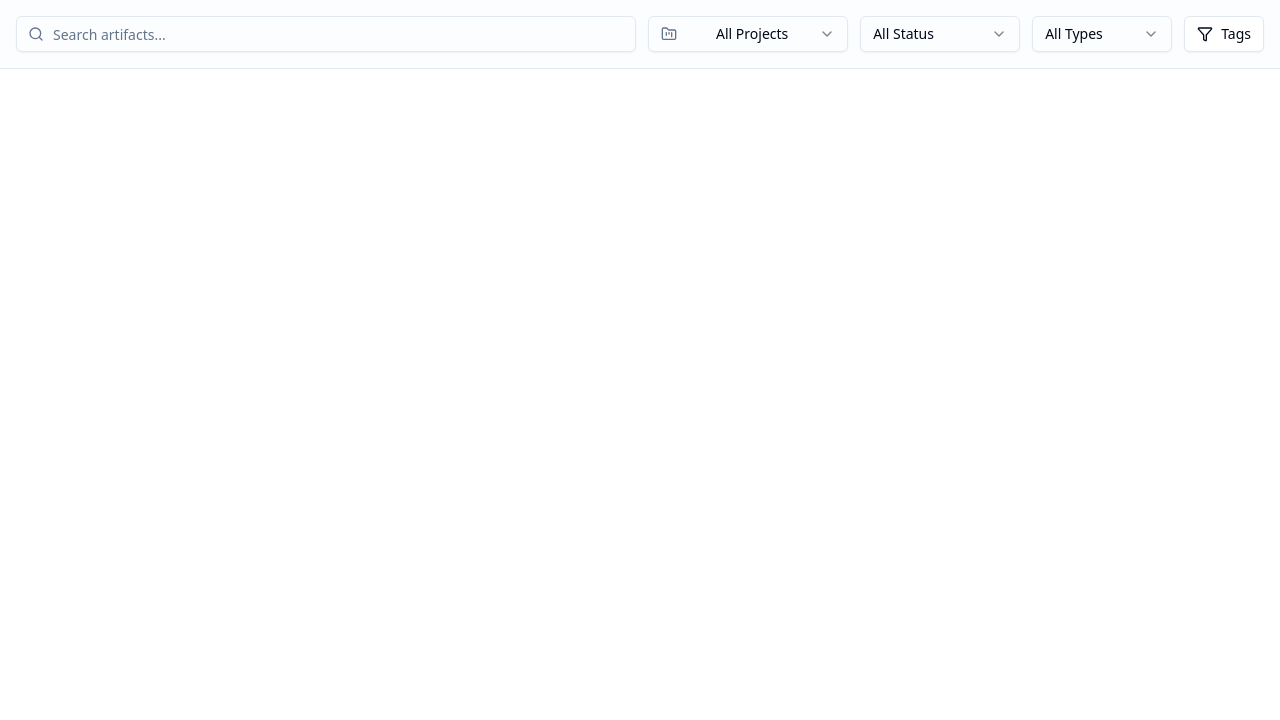
Test: ManagePageFilters › tags popover (shared TagFilterPopover) › opens popover when button is clicked
Click the button "Tags": (1224, 34) [1184,16,1264,52]
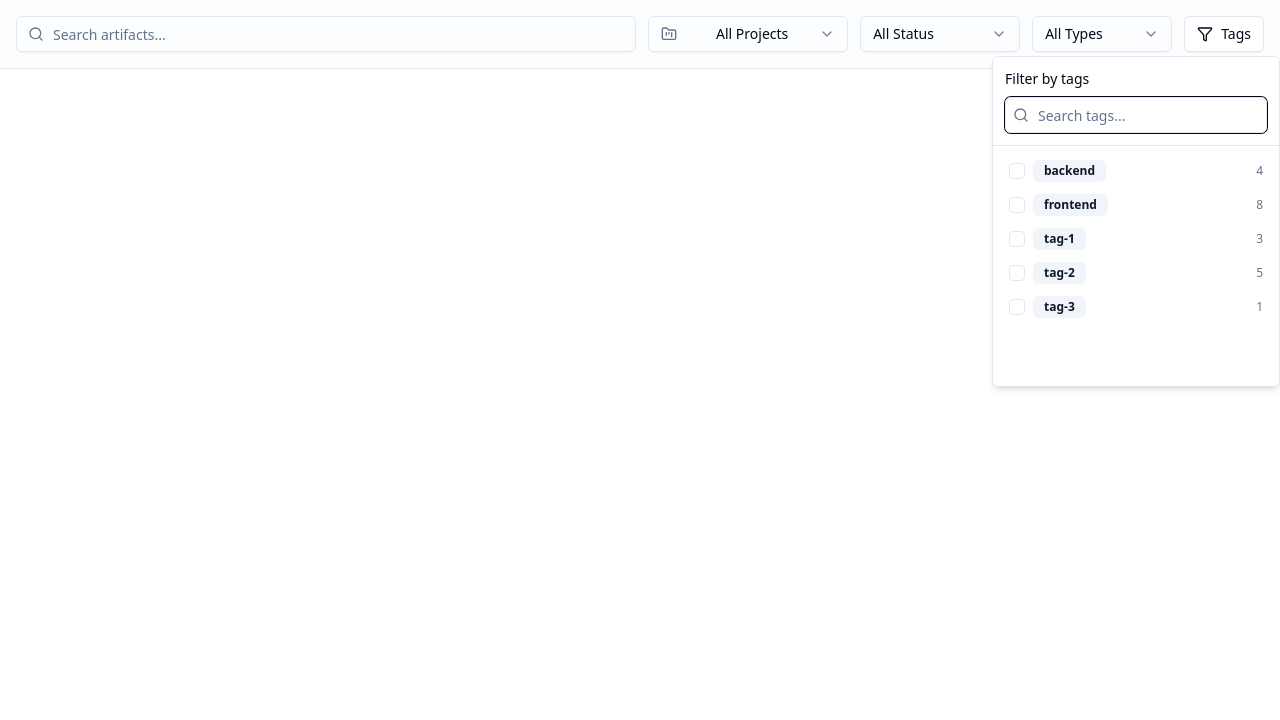
Now the text "Filter by tags" is shown, box [1005,69,1089,89]
Now the field with placeholder "Search tags..." is shown, box [1005,97,1267,133]
